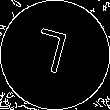L_S: (34, 27, 76, 84)
